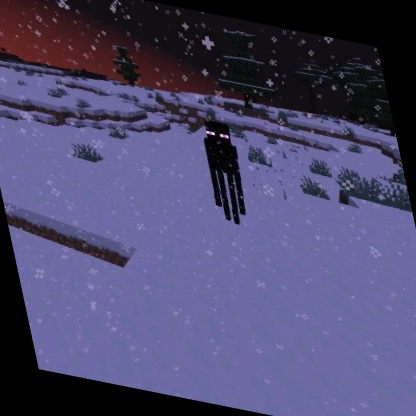enderman: (194, 115, 256, 229)
